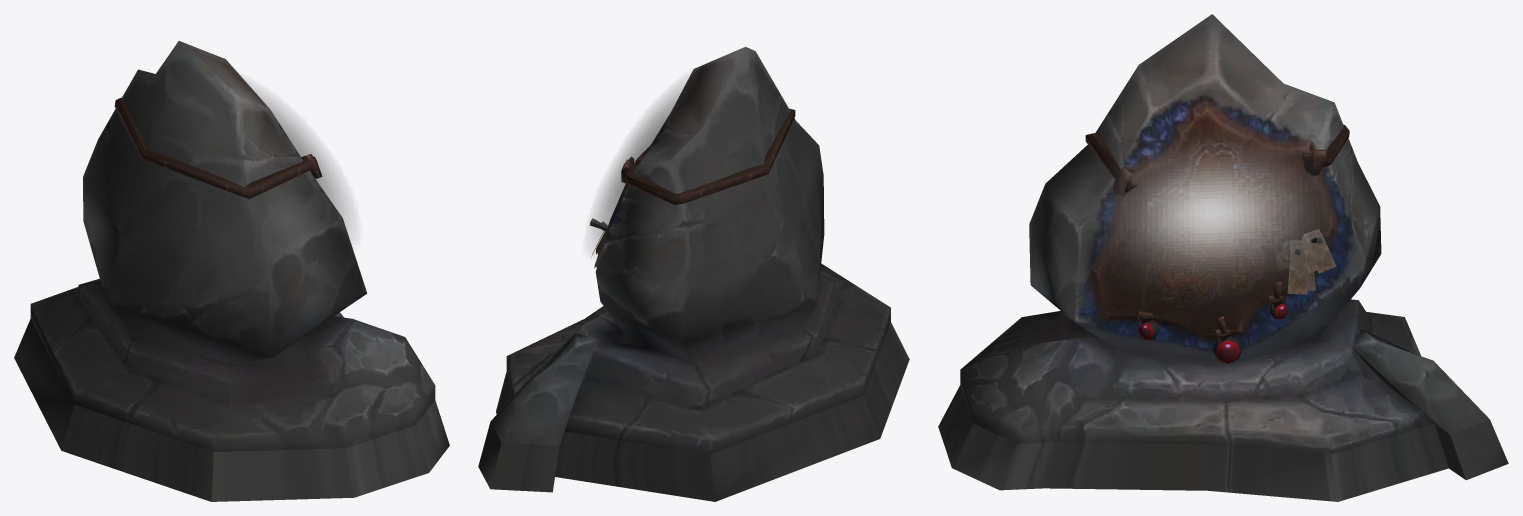
3 views of the same model, side by side, from view 1: azimuth 30°, elevation 25°; view 2: azimuth 150°, elevation 25°; view 3: azimuth 270°, elevation 25° (orthographic). The views are drawn at different scales.
Bounding box in the file's own units: 4.82 × 5.38 × 7.13.
2 materials, 2 textured.
